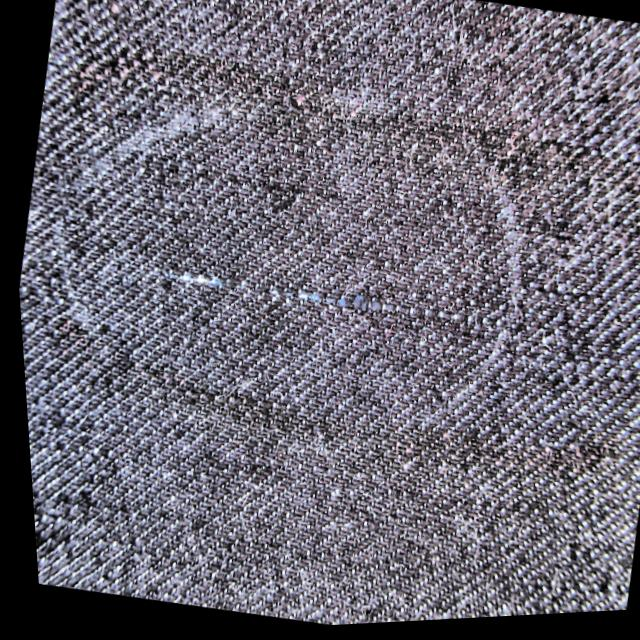Hole: (142, 197, 272, 354), (260, 258, 369, 345)
